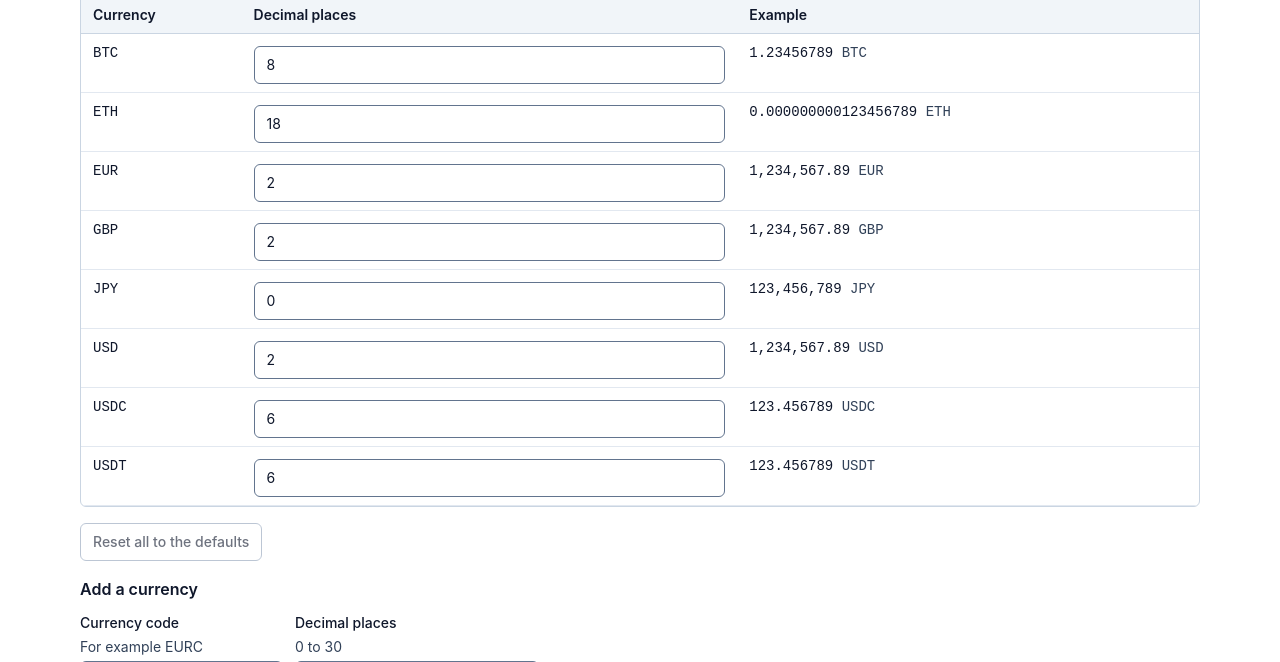
Test: Settings: amounts › puts the saved number back when the person leaves a bad entry
(page scrolled)
Clear the 6th field named "Decimal places for USD". click: (489, 360)
box: x1=254 y1=341 x2=725 y2=379
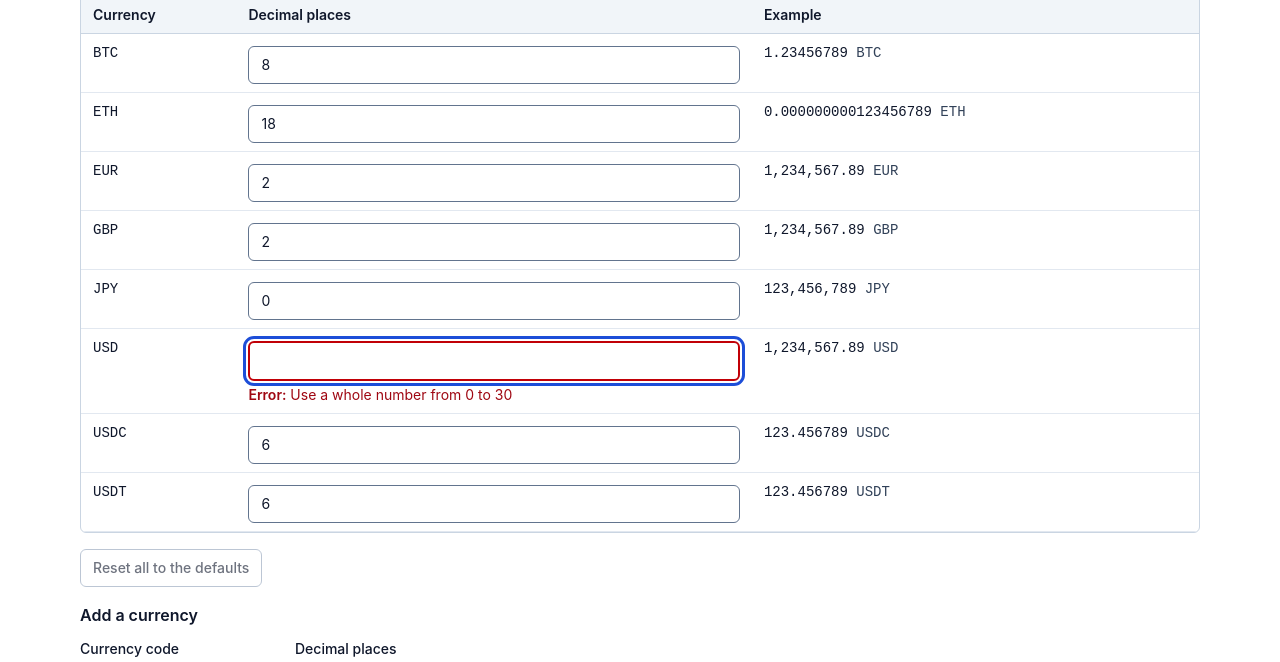
Type "abc" into the 6th field named "Decimal places for USD". click: (494, 361)
box: x1=248 y1=341 x2=740 y2=381
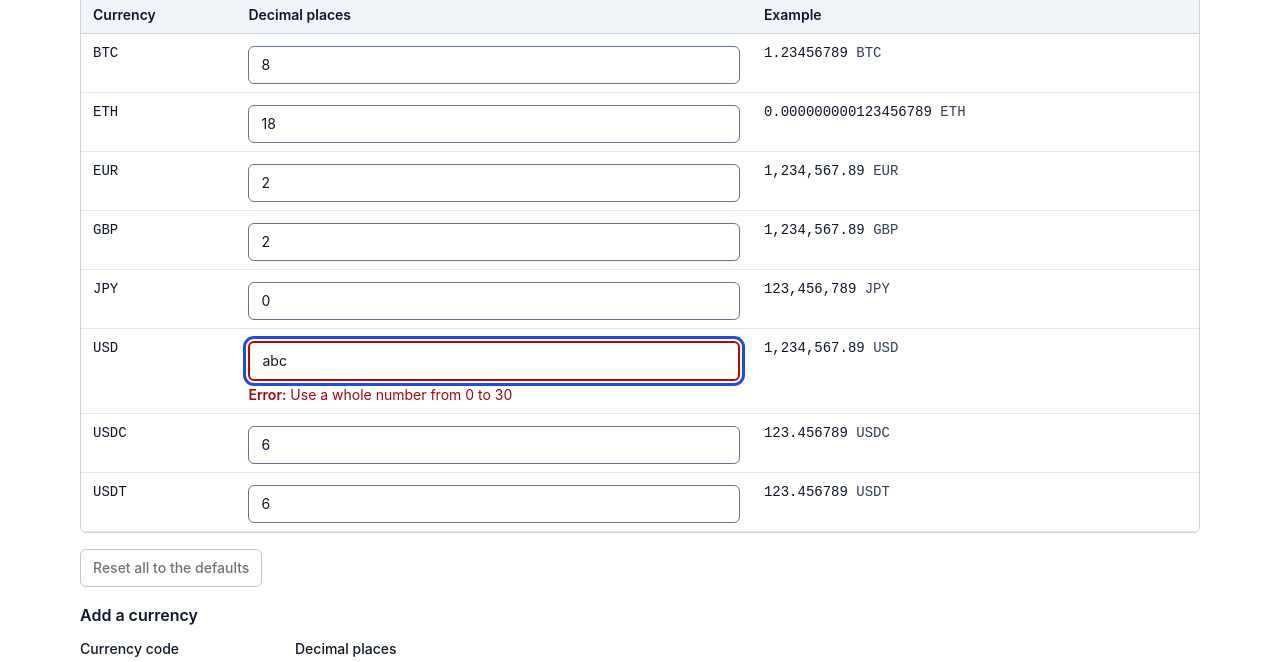
Press Tab
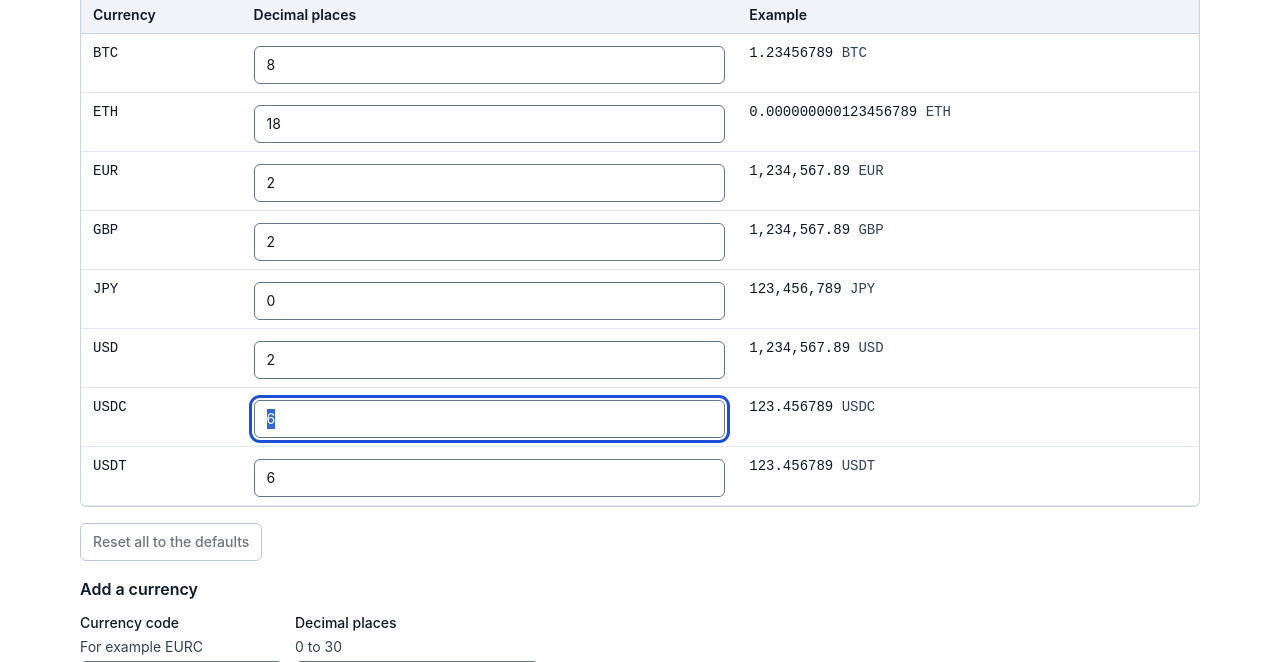
expect the 6th field named "Decimal places for USD" holds "2": met, box x1=254 y1=341 x2=725 y2=379
